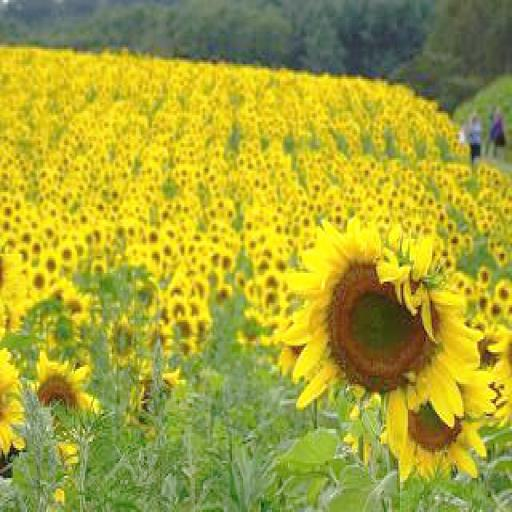sunflower: (284, 218, 478, 437), (384, 386, 485, 480), (27, 352, 101, 425), (106, 314, 140, 367), (27, 266, 50, 296), (174, 314, 197, 341), (494, 278, 512, 312), (218, 254, 235, 275)
